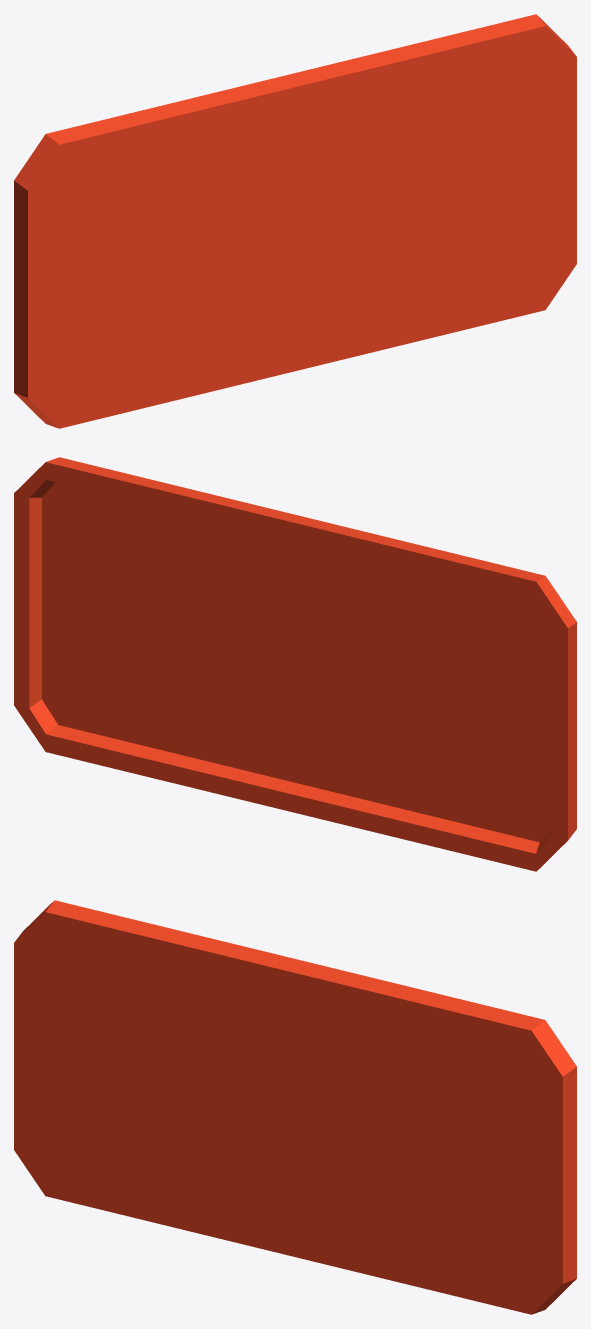
Rendered from SM_Sign_Directional_A_City.fbx.
3 views of the same model, one above another, from view 1: azimuth 30°, elevation 25°; view 2: azimuth 150°, elevation 25°; view 3: azimuth 330°, elevation 25° (orthographic).
Visible parts, largest first — view 1: SM_Sign_Directional_A_City; view 2: SM_Sign_Directional_A_City; view 3: SM_Sign_Directional_A_City.
Boxes of the visible parts, box(x1,y1,x2,y2) form: SM_Sign_Directional_A_City: box(14, 14, 576, 428); SM_Sign_Directional_A_City: box(14, 457, 576, 871); SM_Sign_Directional_A_City: box(14, 900, 576, 1314).
Bounding box in the file's own units: 0.8311 × 0.4156 × 0.0299.
